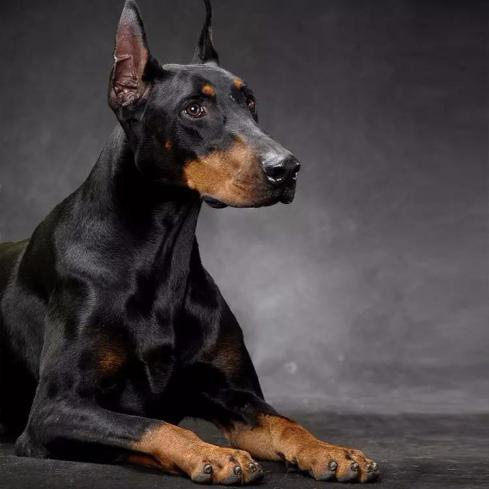dog: (7, 1, 382, 483)
